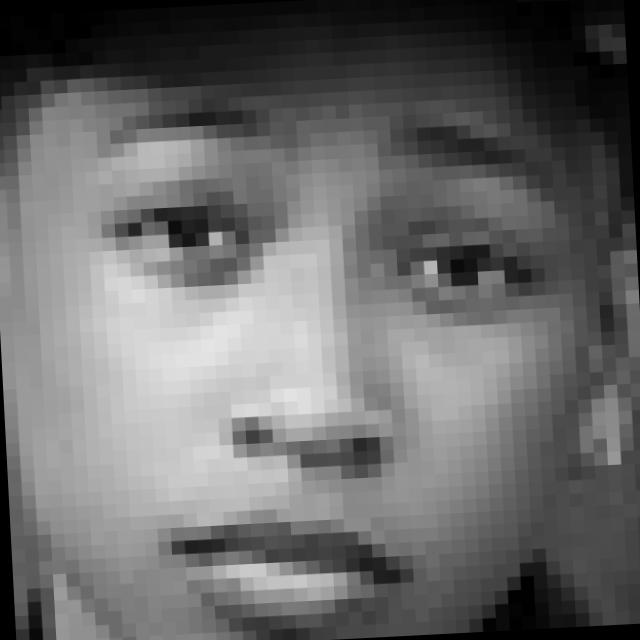neutral: (78, 71, 577, 640)
